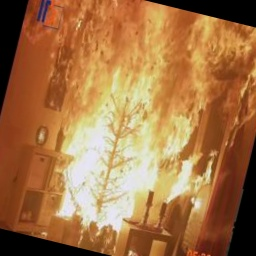fire: (0, 0, 256, 253)
